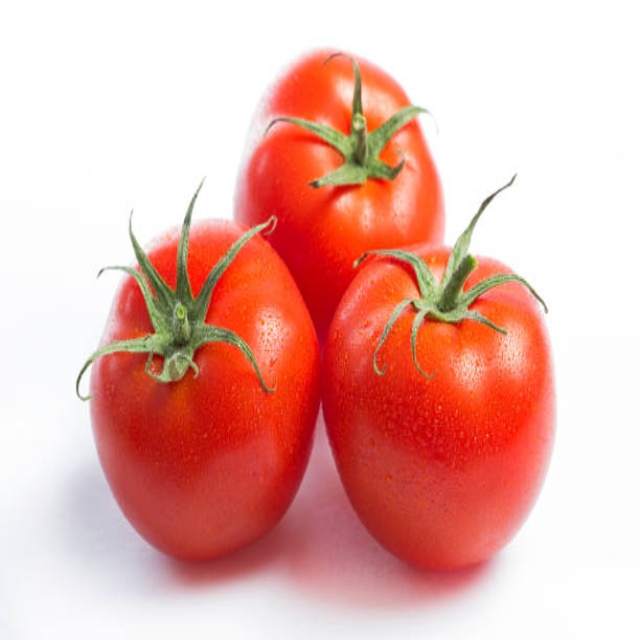tomato: (67, 231, 313, 567), (337, 251, 555, 575), (235, 46, 447, 332)
